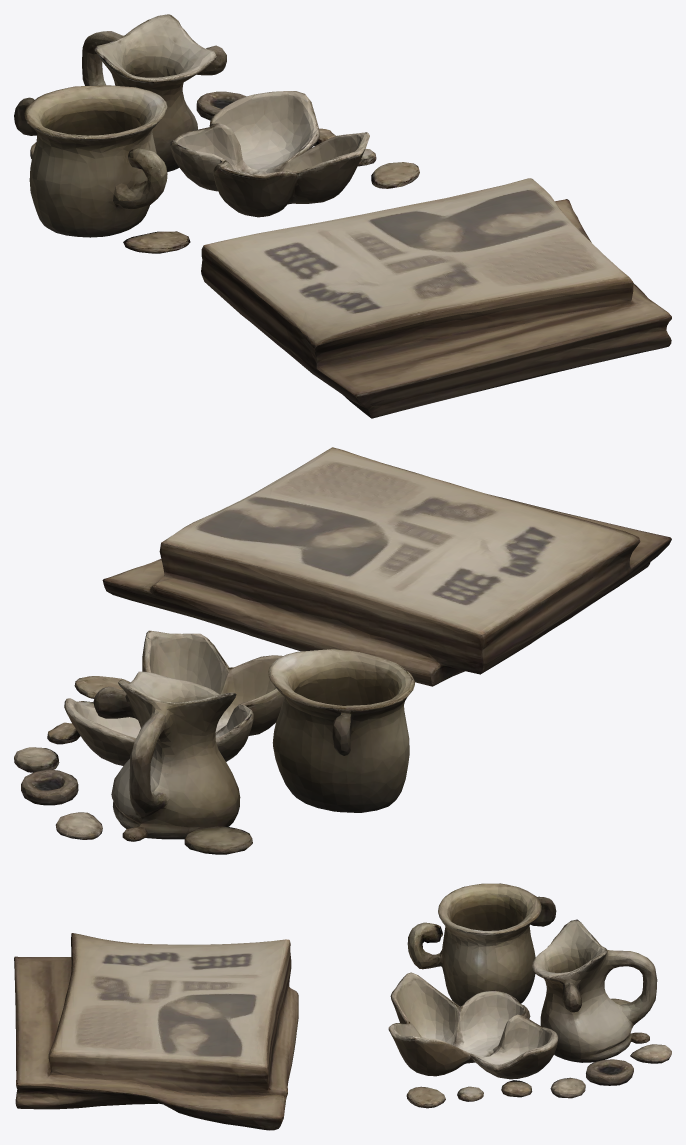
Rendered from newspaper_and_assorted.glb.
3 renders of one model, top to bottom at view 1: azimuth 30°, elevation 25°; view 2: azimuth 150°, elevation 25°; view 3: azimuth 270°, elevation 25°, orthographic. The views are drawn at different scales.
Visible parts, largest first — view 1: geometry_0; view 2: geometry_0; view 3: geometry_0.
Part boxes in pixels (x1,y1,x2,y2): geometry_0: [14, 14, 671, 418]; geometry_0: [14, 447, 671, 854]; geometry_0: [14, 883, 671, 1130].
Size of the model in its own units: 0.6006 by 0.177 by 0.9998.
1 material, 1 textured.
